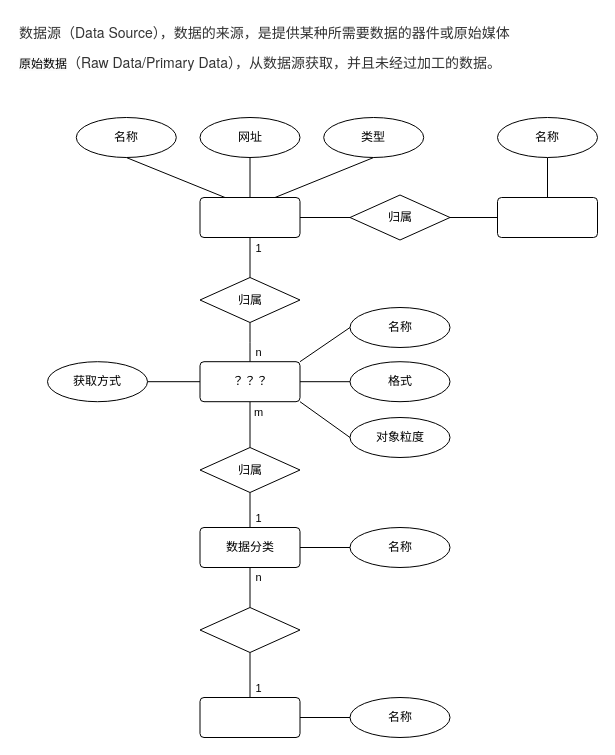
The diagram is 615 pixels wide and 755 high, and some of its shapes have lost their labels. The centre of each missing label's shape, as x and y in pixels:
主题域: (249,717)
包含: (249,629)
数据源: (249,217)
数据源分类: (547,217)
